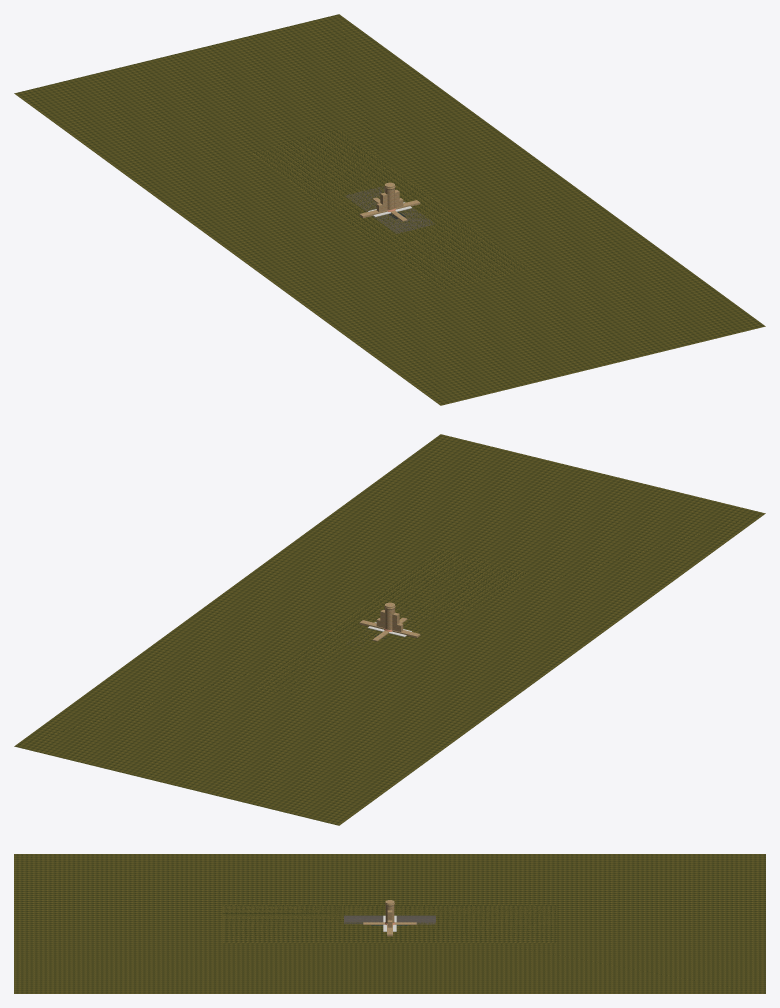
The model's file is kit.glb.
3 renders of one model, top to bottom at view 1: azimuth 30°, elevation 25°; view 2: azimuth 150°, elevation 25°; view 3: azimuth 270°, elevation 25°, orthographic. The views are drawn at different scales.
Visible parts, largest first — view 1: GrassWest, GrassSouth, GrassNorth, PavingWest; view 2: GrassWest, GrassSouth; view 3: GrassWest, GrassNorth, GrassSouth, PavingWest.
Boxes of the visible parts, box(x1,y1,x2,y2) form: GrassWest: box(14, 14, 765, 405); GrassSouth: box(275, 130, 528, 289); GrassNorth: box(253, 132, 446, 286); PavingWest: box(345, 186, 434, 233); GrassWest: box(14, 434, 765, 825); GrassSouth: box(253, 550, 487, 693); GrassWest: box(14, 854, 765, 993); GrassNorth: box(227, 905, 552, 942); GrassSouth: box(222, 905, 557, 942); PavingWest: box(344, 915, 435, 924).
Bounding box in the file's own units: 176 × 14.97 × 400.
12 materials, 7 textured.
